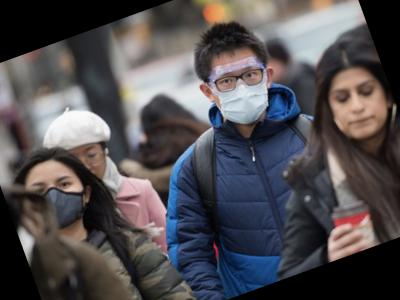with_mask: (204, 50, 283, 134), (23, 165, 95, 240)
without_mask: (322, 69, 400, 149), (70, 138, 116, 191)
